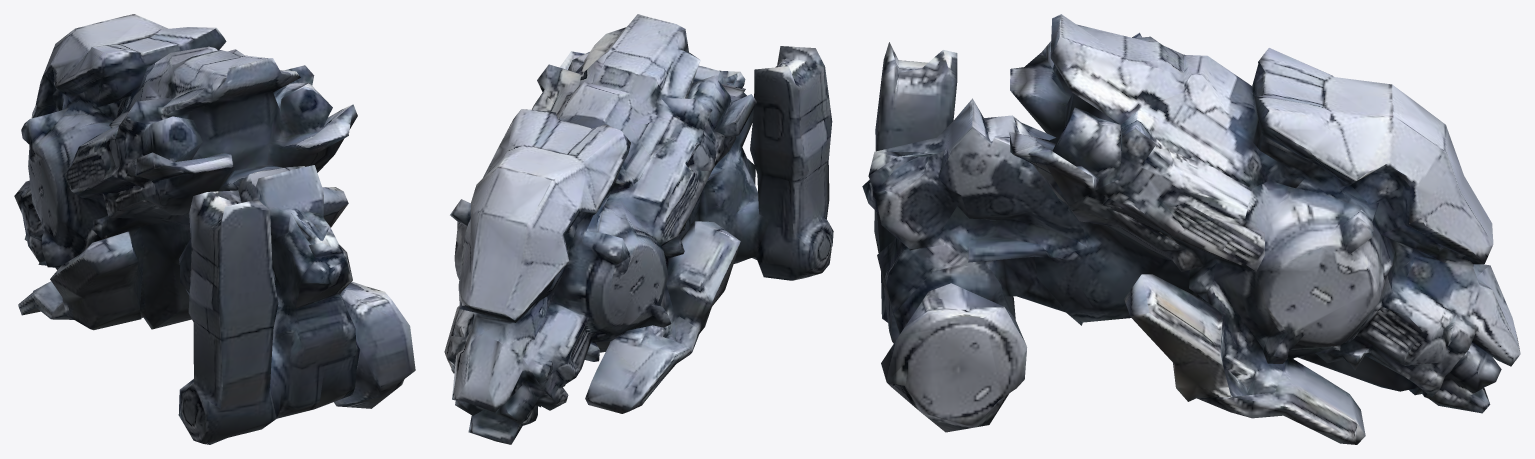
The model's file is wpn_hv_cannon_turret.glb.
The picture shows the model from 3 angles, left to right: view 1: azimuth 30°, elevation 25°; view 2: azimuth 150°, elevation 25°; view 3: azimuth 270°, elevation 25°; orthographic projection. The views are drawn at different scales.
Parts seen in each view (by area): view 1: wpn_hv_cannon_turret; view 2: wpn_hv_cannon_turret; view 3: wpn_hv_cannon_turret.
Part boxes in pixels (<box>): wpn_hv_cannon_turret: <box>14,14,415,444</box>; wpn_hv_cannon_turret: <box>444,14,833,444</box>; wpn_hv_cannon_turret: <box>862,14,1520,444</box>.
Bounding box in the file's own units: 0.1901 × 0.228 × 0.3597.
Materials: 1 (1 with a texture image).
